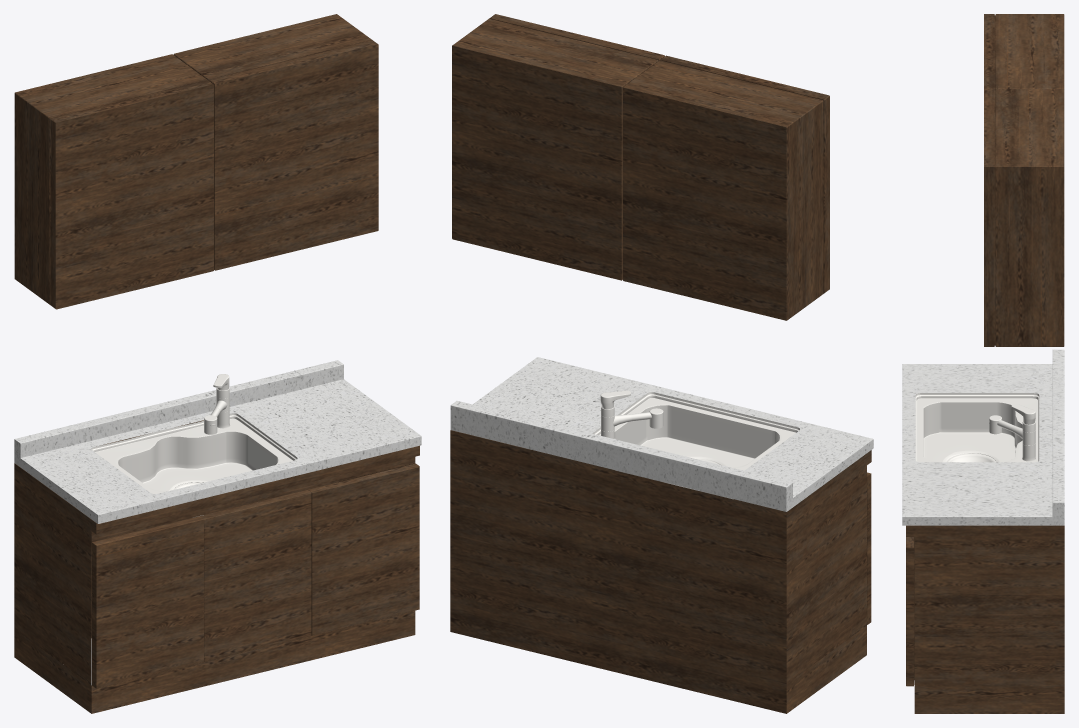
Rendered from sink.glb.
The picture shows the model from 3 angles, left to right: view 1: azimuth 30°, elevation 25°; view 2: azimuth 150°, elevation 25°; view 3: azimuth 270°, elevation 25°; orthographic projection. The views are drawn at different scales.
Parts seen in each view (by area): view 1: XlaOC_69C0D1238A07443AD_low; view 2: XlaOC_69C0D1238A07443AD_low; view 3: XlaOC_69C0D1238A07443AD_low.
Boxes of the visible parts, bbox=[...] form: XlaOC_69C0D1238A07443AD_low: bbox=[14, 14, 421, 713]; XlaOC_69C0D1238A07443AD_low: bbox=[450, 14, 873, 713]; XlaOC_69C0D1238A07443AD_low: bbox=[902, 14, 1064, 713].
Bounding box in the file's own units: 1.45 × 2.42 × 0.65.
3 materials, 3 textured.
